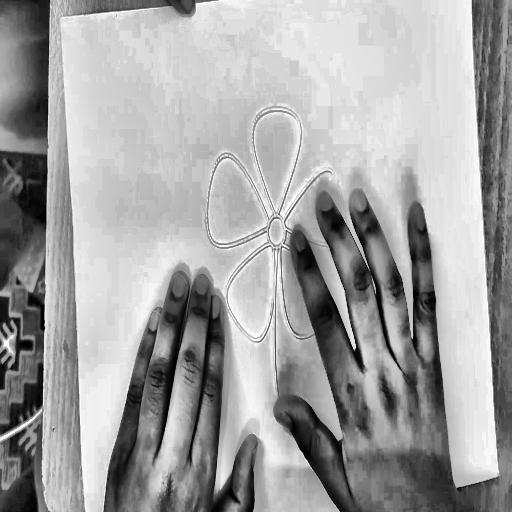bottom_right: (495, 465, 504, 481)
flower: (193, 81, 370, 458)
top_left: (56, 11, 65, 26)
